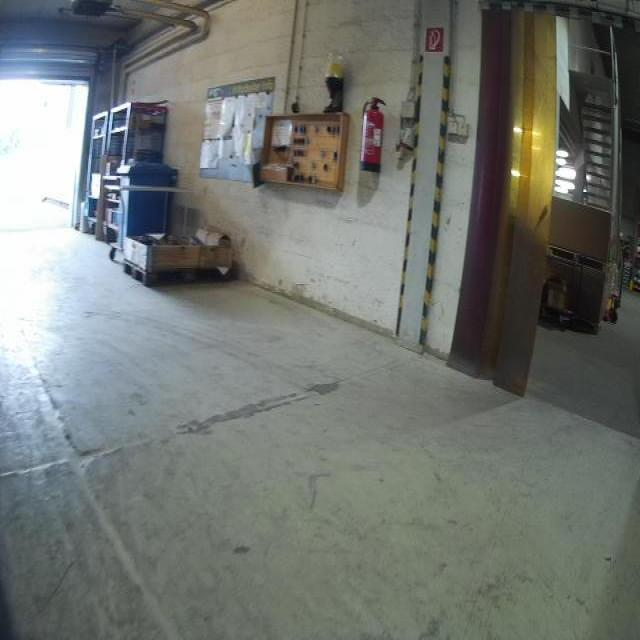pallet: (123, 258, 233, 290), (546, 244, 607, 277)
pallet_truck: (599, 235, 633, 330)
